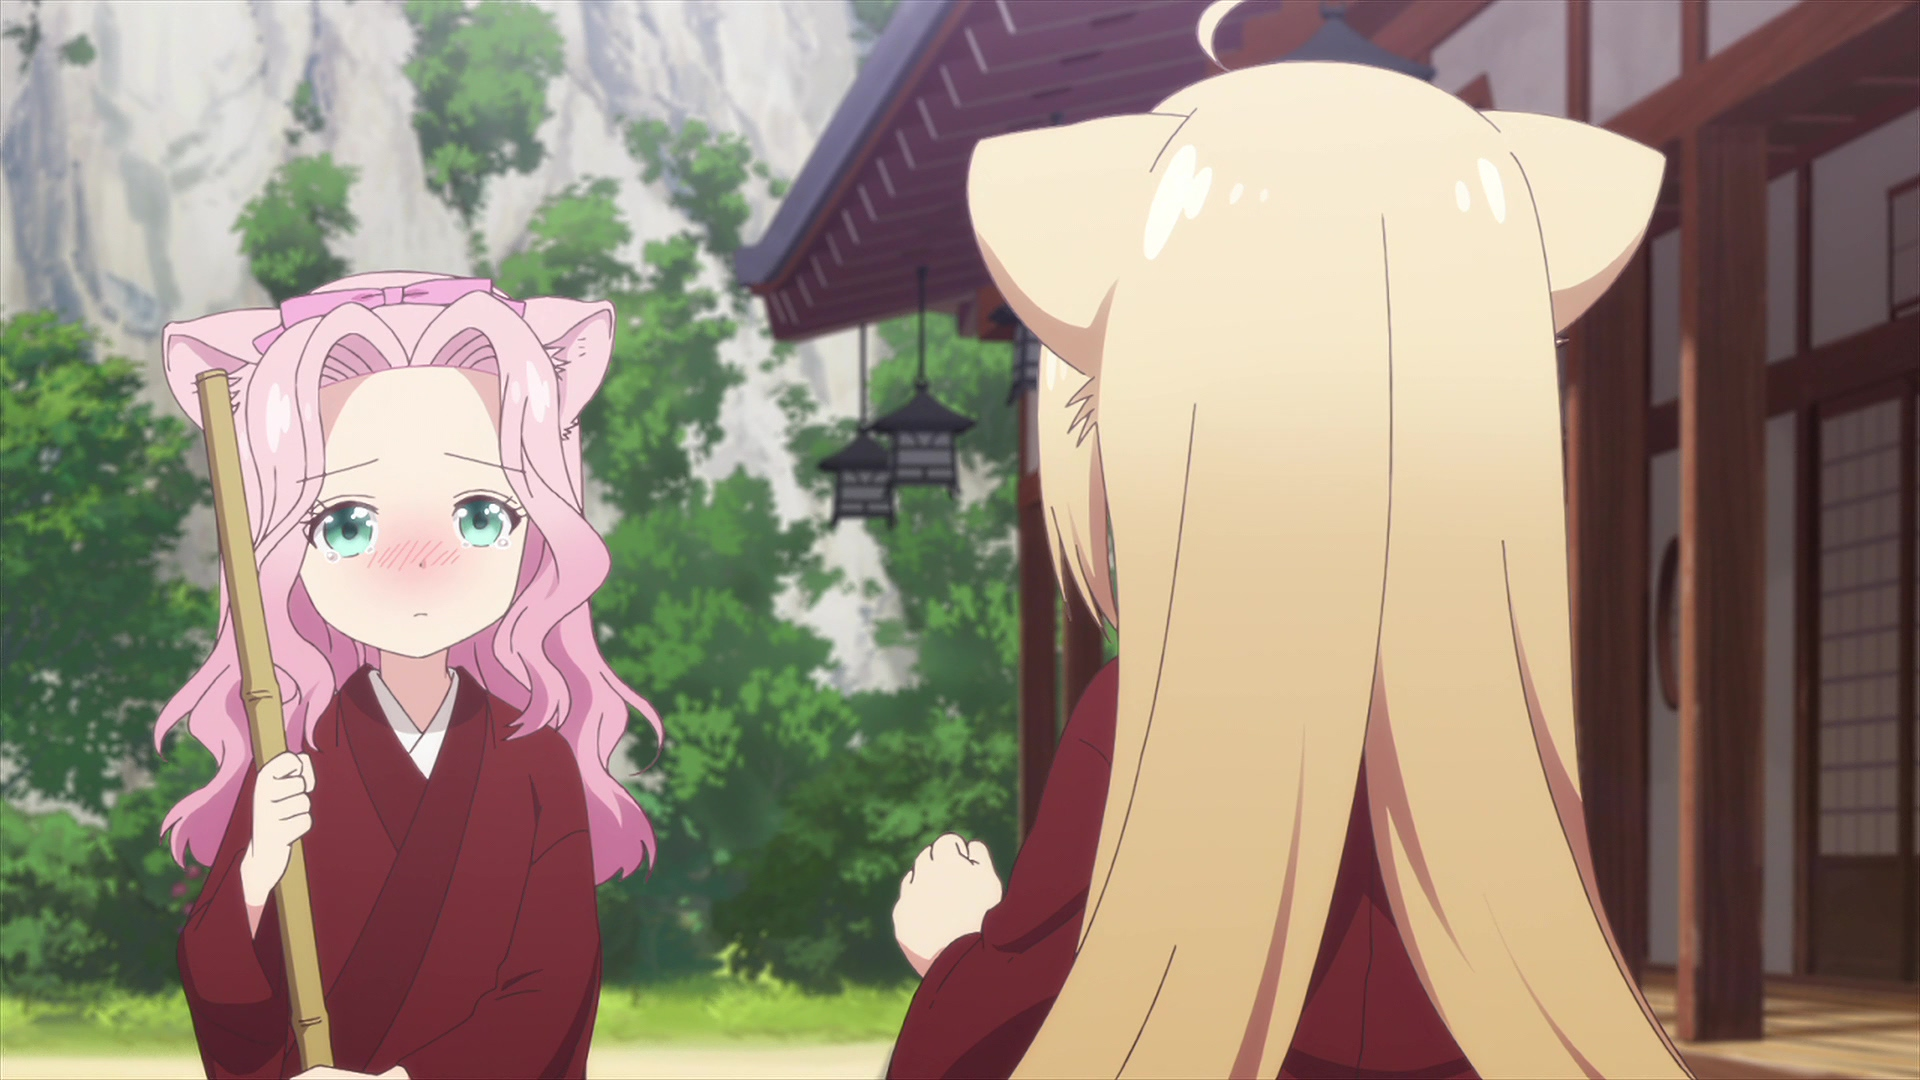柚: (889, 1, 1700, 1080)
莲: (154, 269, 666, 1080)
